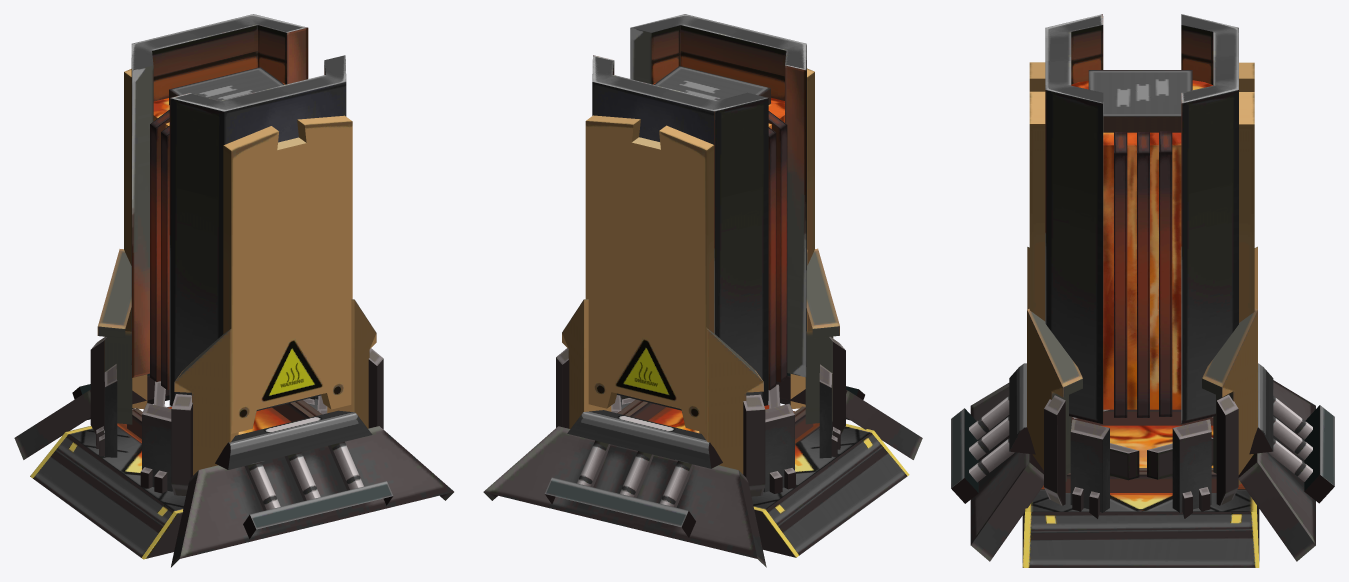
File: trap_490_xbtiro.fbx
The picture shows the model from 3 angles, left to right: view 1: azimuth 30°, elevation 25°; view 2: azimuth 150°, elevation 25°; view 3: azimuth 270°, elevation 25°; orthographic projection. The views are drawn at different scales.
Visible parts, largest first — view 1: trap_490_xbtiro; view 2: trap_490_xbtiro; view 3: trap_490_xbtiro.
Part boxes in pixels (x1=…): trap_490_xbtiro: x1=14, y1=14, x2=453, y2=567; trap_490_xbtiro: x1=483, y1=14, x2=922, y2=567; trap_490_xbtiro: x1=951, y1=14, x2=1334, y2=567.
Bounding box in the file's own units: 1.09 × 1.46 × 1.17.
Materials: 1 (1 with a texture image).
